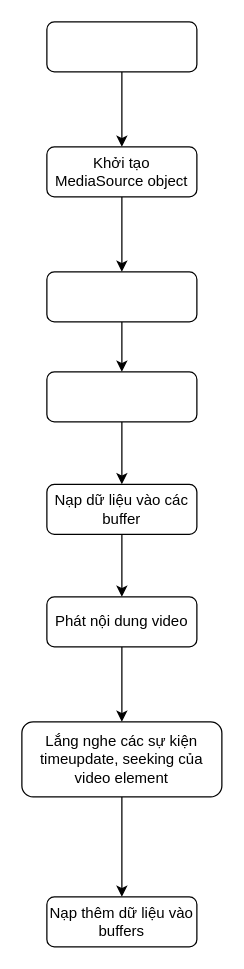
Some shapes in this 244 by 969 pixel diagram are drawn without their labels. Here are the shapes that lost their labels. From the top down, the box of each, then its label:
(46, 21, 197, 72): Khởi tạo manifest parser object
(46, 271, 197, 322): Attach MediaSource object vào video element
(46, 371, 197, 422): Khởi tạo buffers cho các thành phần của stream
